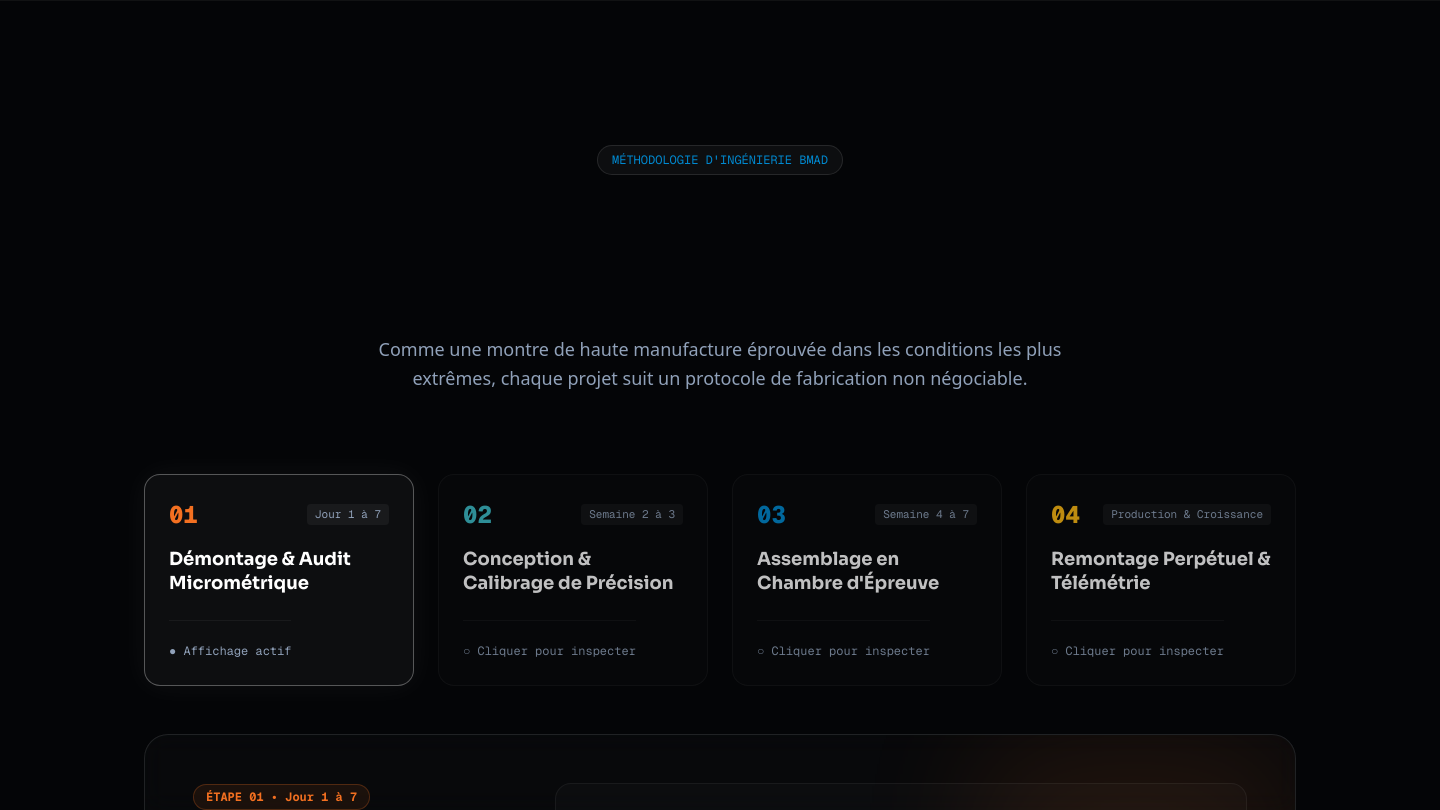
Test: About Page & Components › renders BmadFrameworkSteps and allows switching between protocol steps
// Click on step 02 button
Click the button "Conception & Calibrage de Précision". click: point(573, 580)
box: [438,474,708,686]
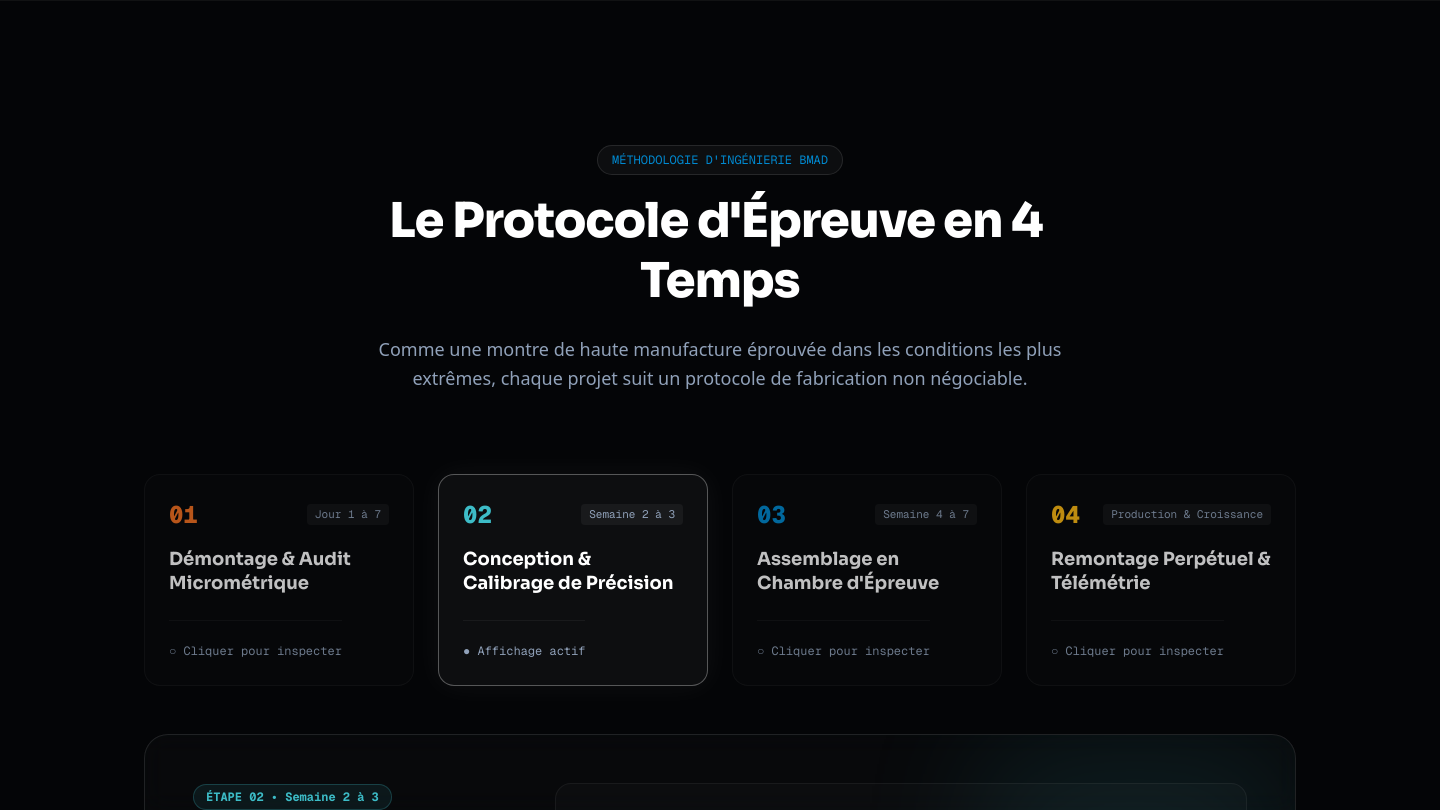
Now the text "ÉTAPE 02 • Semaine 2 à 3" is shown, box [193,784,392,809]
